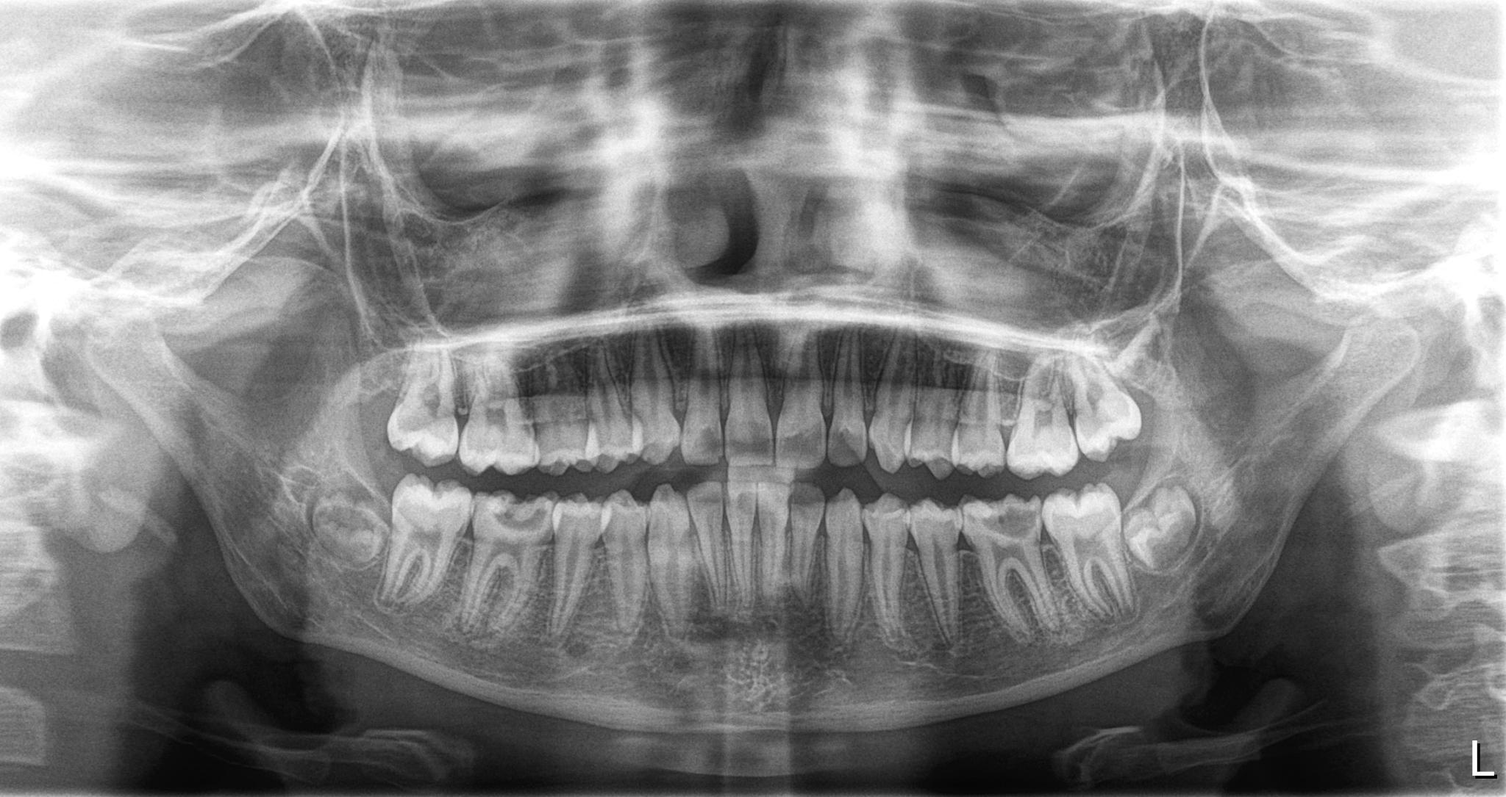Dental Caries: (489, 500, 554, 535), (976, 507, 1036, 543)
Impacted Third Molar: (1121, 488, 1208, 562), (307, 487, 382, 561)
